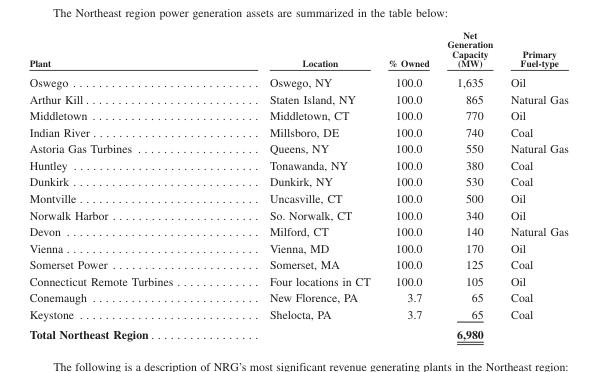table: (28, 28, 567, 340)
table column: (28, 28, 220, 340), (220, 28, 378, 340), (501, 28, 567, 340), (437, 28, 501, 340), (378, 28, 437, 340)
table column header: (28, 28, 567, 57)
table row: (28, 28, 567, 57), (28, 71, 567, 90), (28, 305, 567, 323), (28, 106, 567, 123), (28, 123, 567, 140), (28, 156, 567, 173), (28, 189, 567, 206), (28, 222, 567, 239), (28, 255, 567, 272), (28, 272, 567, 289), (28, 323, 567, 340), (28, 90, 567, 106), (28, 140, 567, 156), (28, 173, 567, 189), (28, 206, 567, 222), (28, 239, 567, 255), (28, 289, 567, 305), (28, 57, 567, 71)
